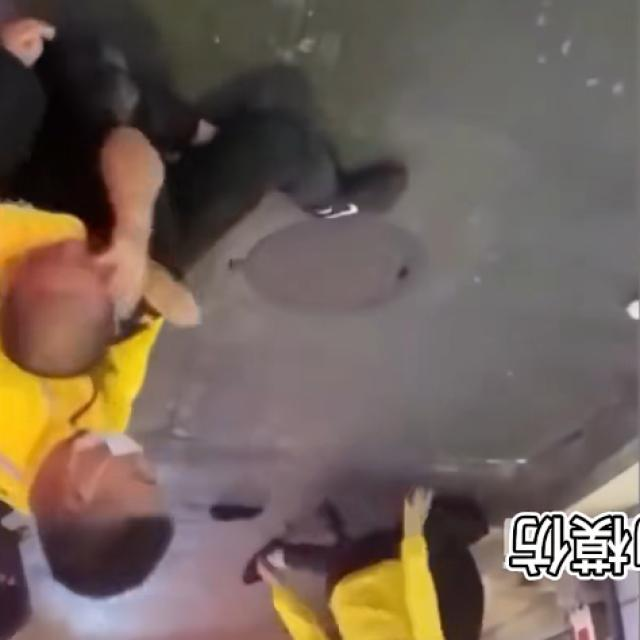fight: (0, 69, 224, 591)
